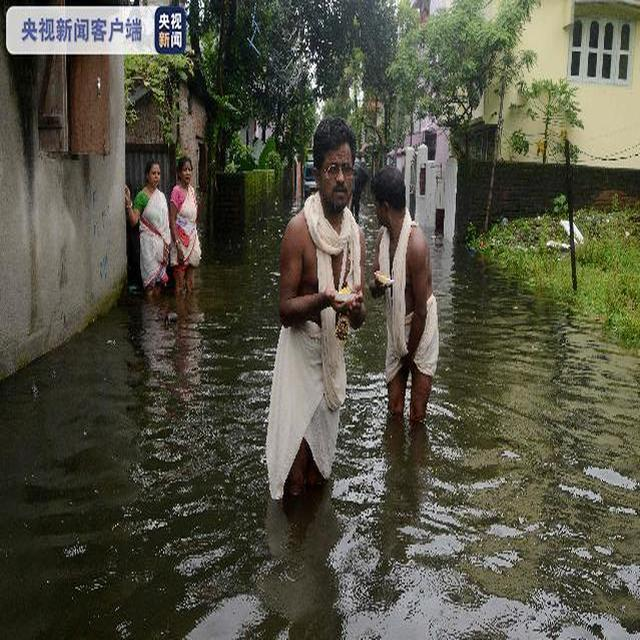Person-RiskLevel2: (265, 104, 353, 527), (362, 158, 450, 460), (112, 148, 174, 309), (167, 153, 218, 309)
